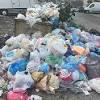Container: (14, 17, 55, 39)
Garbage: (2, 44, 100, 100), (9, 71, 38, 93), (32, 73, 59, 96), (26, 4, 61, 20), (47, 39, 68, 56), (85, 76, 100, 99), (34, 63, 51, 82), (58, 79, 79, 94), (25, 46, 44, 60), (20, 36, 35, 53), (10, 58, 25, 75), (69, 28, 83, 44), (87, 37, 100, 53), (57, 67, 71, 81), (74, 44, 90, 56), (4, 35, 17, 45), (42, 8, 56, 17), (40, 64, 49, 75), (16, 13, 25, 18)
